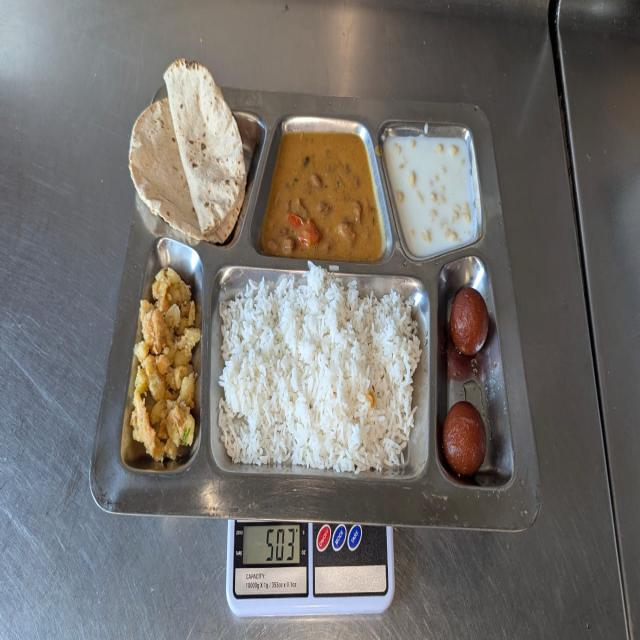Chaat: (118, 257, 205, 476)
Chapati: (130, 58, 250, 247)
Dal: (255, 123, 384, 264)
Gulab Jamun: (439, 284, 498, 493)
Raita: (385, 132, 487, 258)
White Rice: (217, 263, 425, 480)
